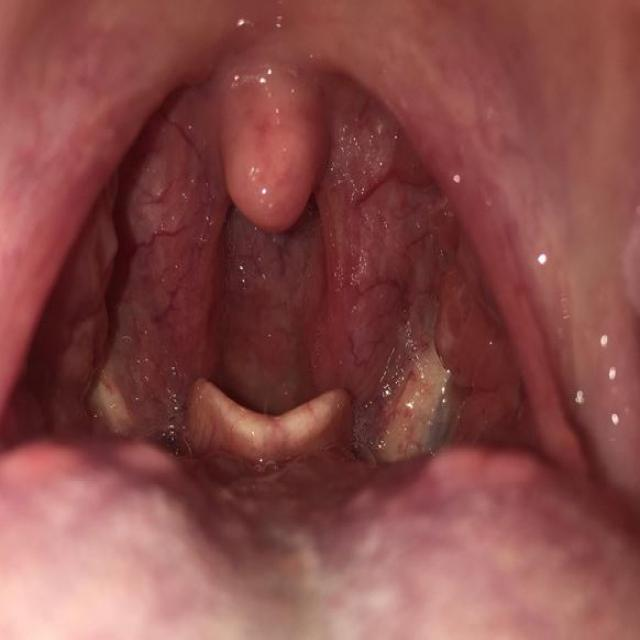Non Pharyngitis: (335, 175, 501, 527), (92, 175, 260, 494)
